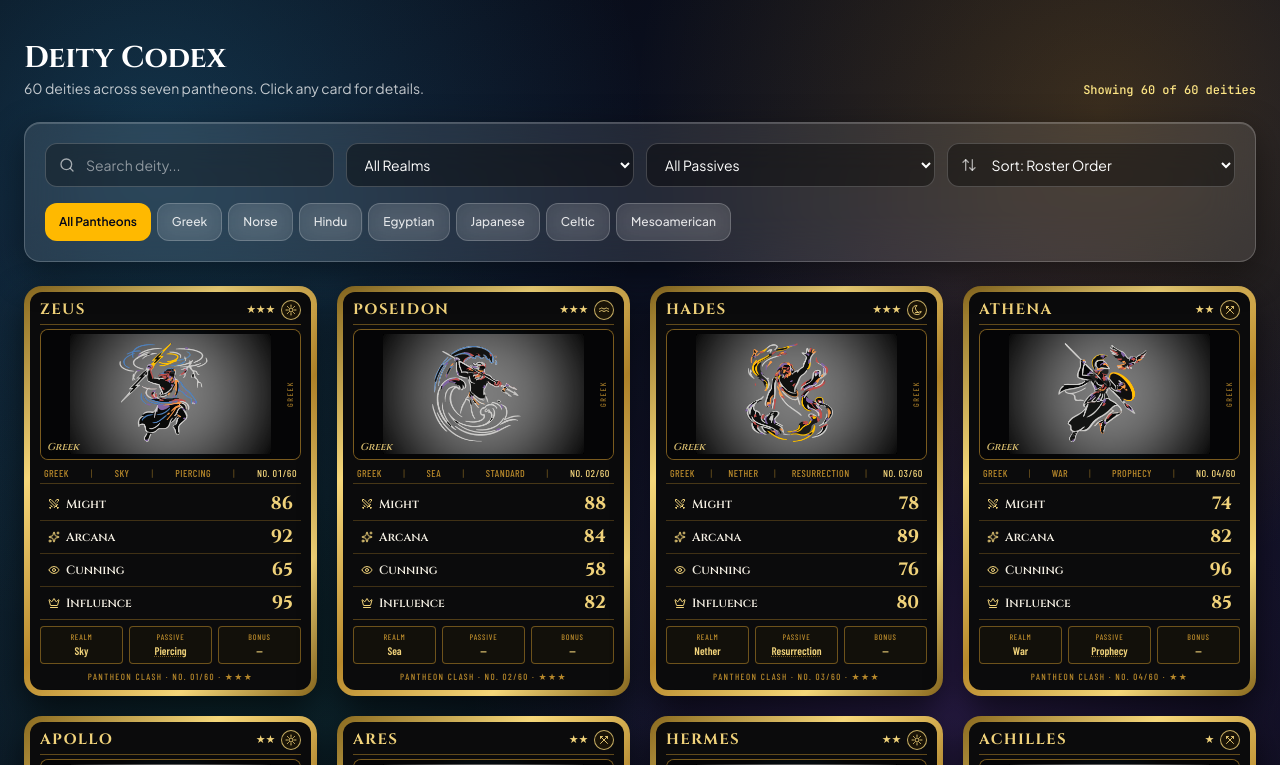
it: Codex component › Red Pill: shows empty state when search filter matches no deity
Type "NonexistentDeity999" into the search field named "search deity name" at (189, 165), box [45,143,334,187]
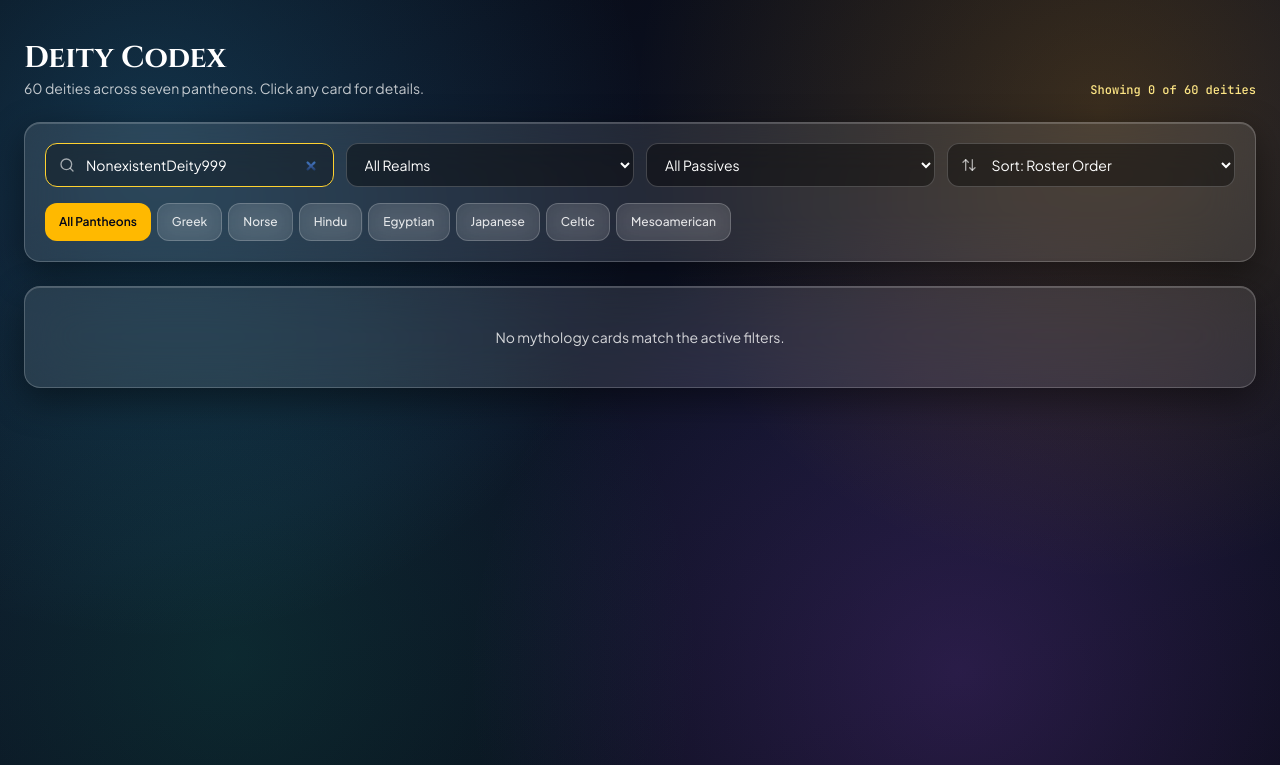
Check: the text "No mythology cards match the active filters." is shown, box [24,286,1256,388]
